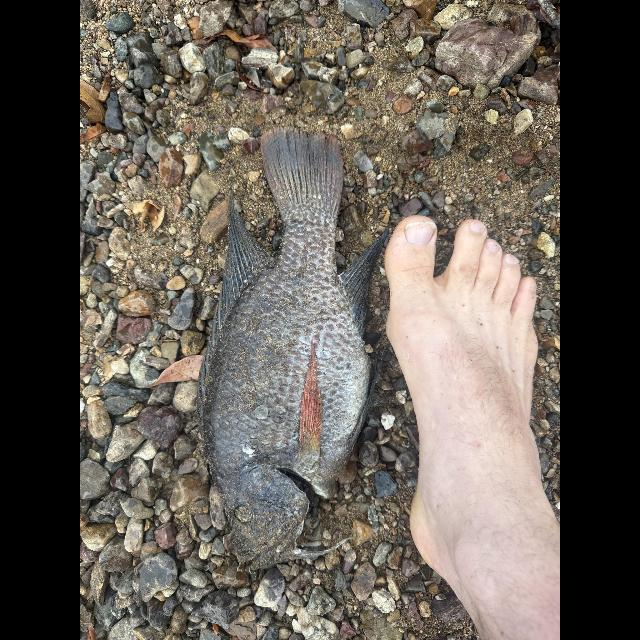Tilapia: (196, 128, 394, 572)
